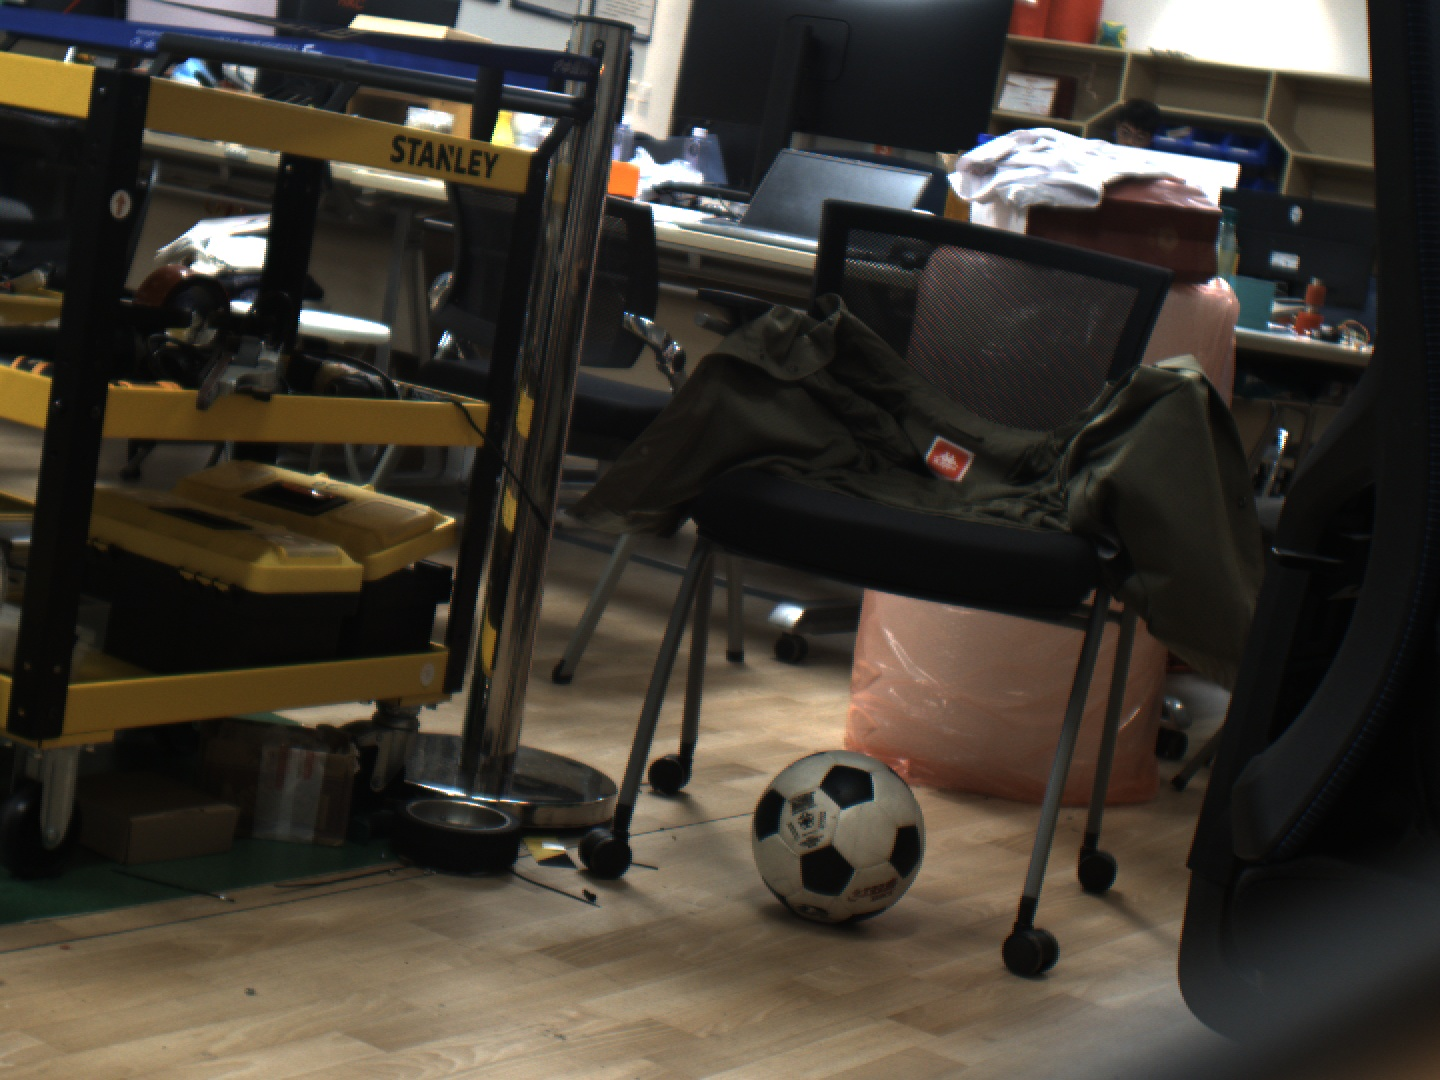ball: (747, 751, 927, 923)
